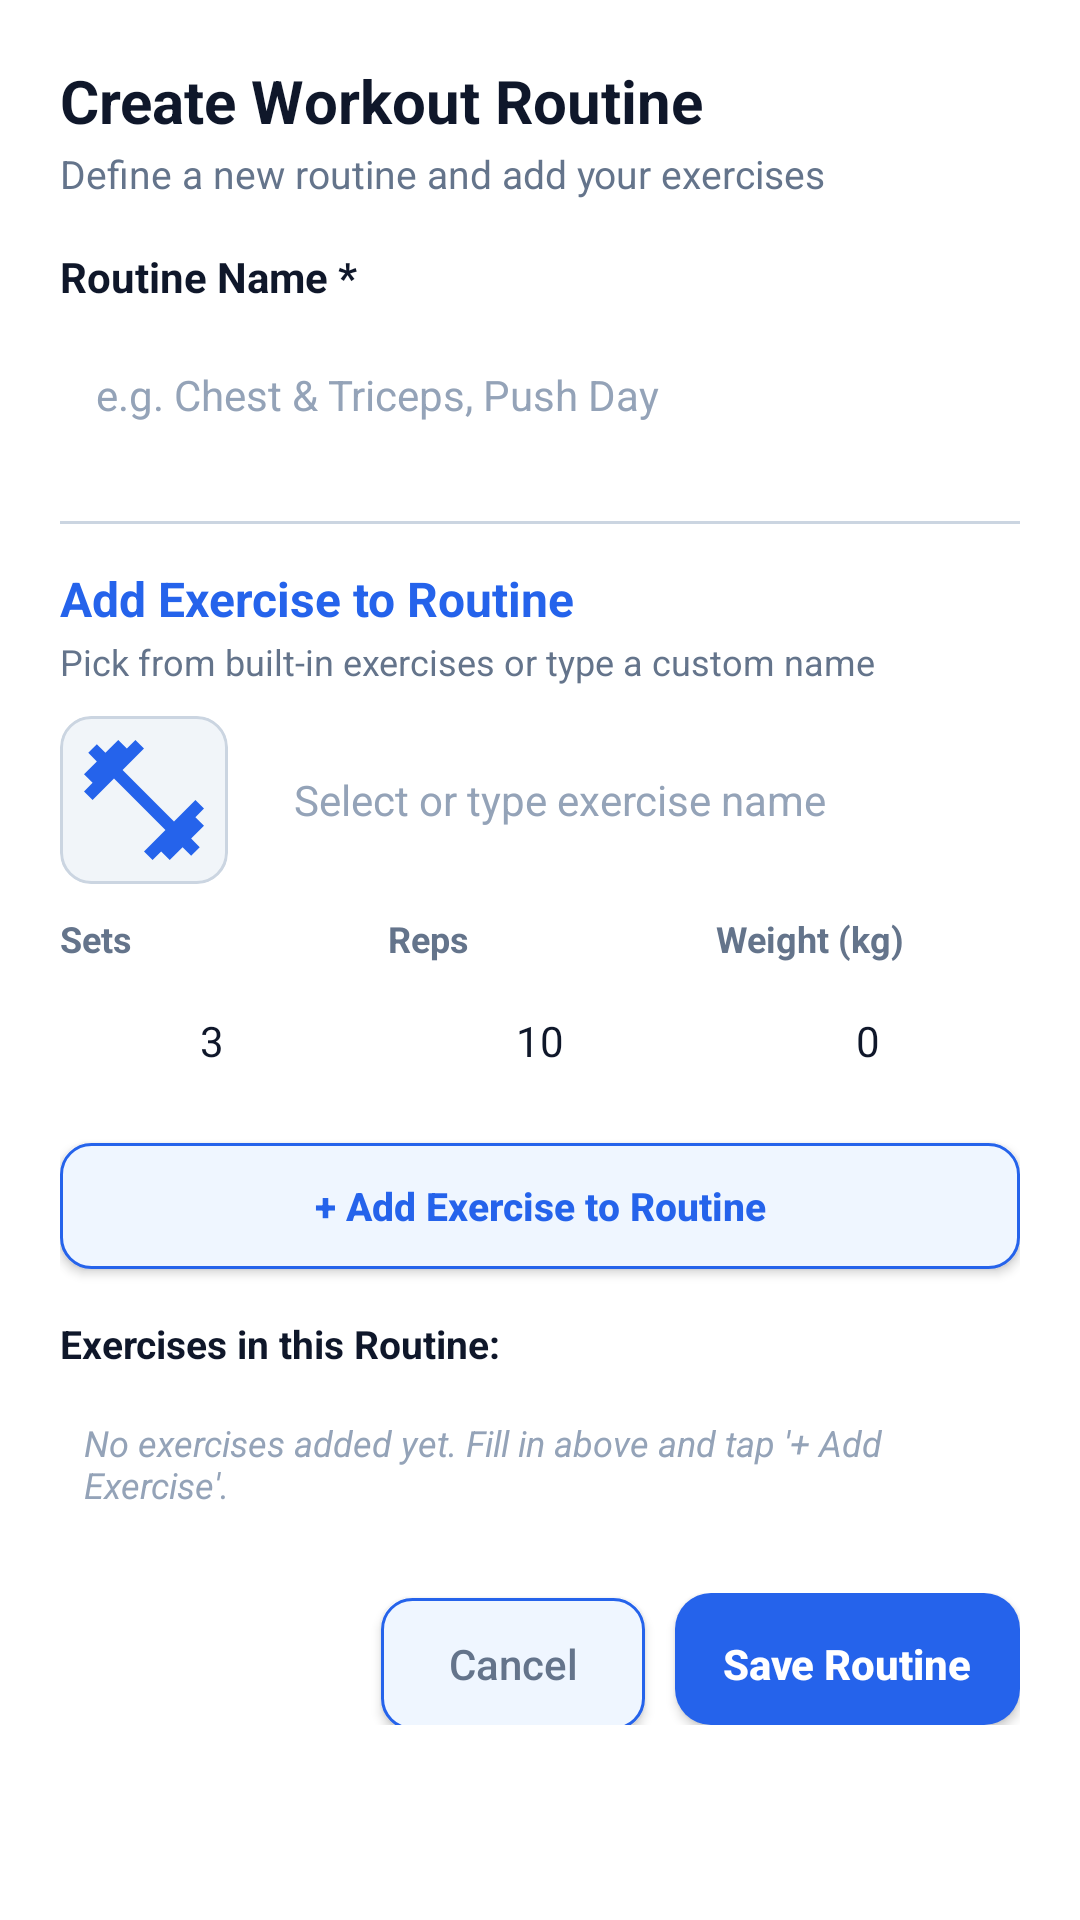

Locate icon controls on the screen. Image size 1080px×1920px, boxes as (x1=x1, y1=y1, x2=x2, y2=y2).
Exercise thumbnail preview: (x1=60, y1=716, x2=228, y2=884)
